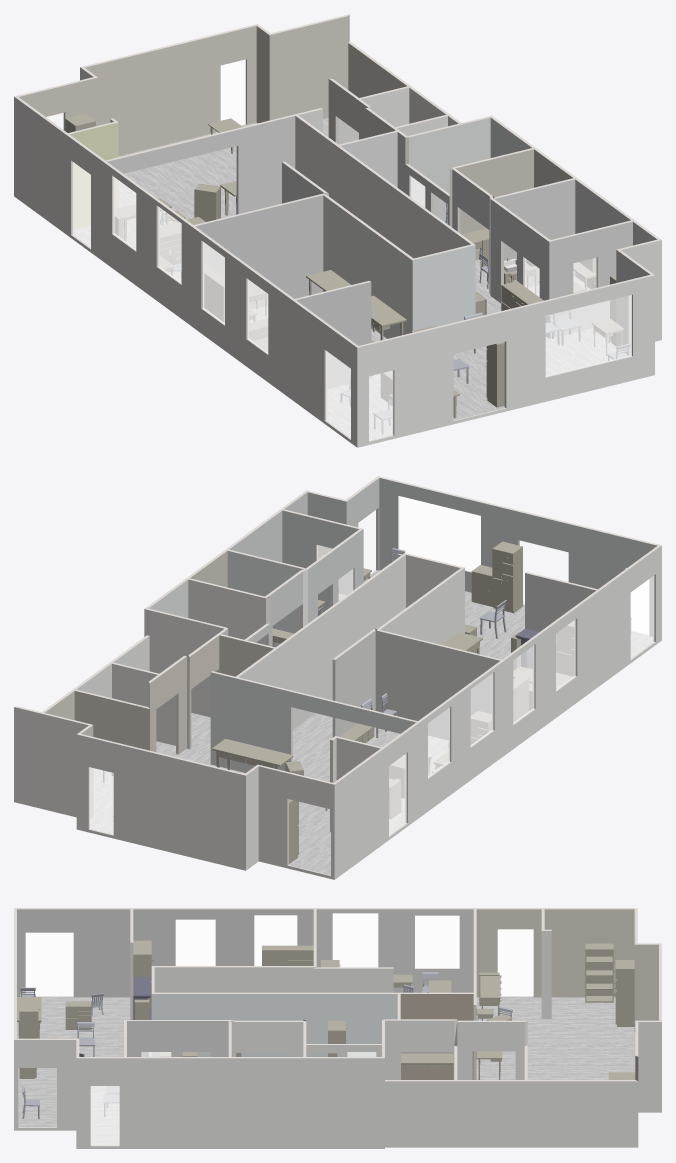
The model's file is Basement.glb.
The picture shows the model from 3 angles, top to bottom: view 1: azimuth 30°, elevation 25°; view 2: azimuth 150°, elevation 25°; view 3: azimuth 270°, elevation 25°; orthographic projection. The views are drawn at different scales.
Visible parts, largest first — view 1: wall_31, wall_83, wall_36, wall_41, wall_93, wall_29, wall_53, floor_Dining_Room_1, wall_43, wall_49, floor_Living_Room_1, window_6 (+56 smaller); view 2: wall_16, wall_113, wall_49, wall_123, wall_41, wall_21, wall_109, wall_43, wall_45, window_6, window_14, wall_42 (+55 smaller); view 3: floor_Living_Room_1, wall_39, wall_149, wall_13, wall_15, floor_Dining_Room_1, wall_147, wall_35, wall_137, wall_133, wall_141, wall_34 (+44 smaller).
Boxes of the visible parts, x1=… form: wall_31: x1=357, y1=275, x2=654, y2=447; wall_83: x1=85, y1=26, x2=256, y2=155; wall_36: x1=195, y1=195, x2=323, y2=308; wall_41: x1=191, y1=227, x2=292, y2=399; wall_93: x1=269, y1=16, x2=348, y2=120; wall_29: x1=107, y1=116, x2=295, y2=214; wall_53: x1=323, y1=195, x2=412, y2=338; floor_Dining_Room_1: x1=326, y1=328, x2=627, y2=440; wall_43: x1=103, y1=162, x2=191, y2=325; wall_49: x1=336, y1=146, x2=470, y2=258; floor_Living_Room_1: x1=73, y1=117, x2=328, y2=247; window_6: x1=546, y1=295, x2=631, y2=376; wall_16: x1=76, y1=734, x2=245, y2=870; wall_113: x1=379, y1=478, x2=657, y2=636; wall_49: x1=277, y1=555, x2=405, y2=729; wall_123: x1=377, y1=631, x2=499, y2=739; wall_41: x1=504, y1=591, x2=599, y2=755; wall_21: x1=14, y1=707, x2=88, y2=817; wall_109: x1=235, y1=678, x2=415, y2=772; wall_43: x1=420, y1=661, x2=503, y2=817; wall_45: x1=334, y1=749, x2=383, y2=879; window_6: x1=399, y1=496, x2=480, y2=571; window_14: x1=399, y1=496, x2=480, y2=571; wall_42: x1=258, y1=766, x2=334, y2=879; floor_Living_Room_1: x1=476, y1=996, x2=635, y2=1079; wall_39: x1=125, y1=1058, x2=229, y2=1148; wall_149: x1=151, y1=994, x2=397, y2=1056; wall_13: x1=526, y1=1081, x2=638, y2=1147; wall_15: x1=305, y1=1058, x2=384, y2=1148; floor_Dining_Room_1: x1=17, y1=996, x2=151, y2=1145; wall_147: x1=17, y1=909, x2=130, y2=997; wall_35: x1=230, y1=1058, x2=304, y2=1148; wall_137: x1=316, y1=909, x2=473, y2=992; wall_133: x1=133, y1=909, x2=313, y2=965; wall_141: x1=544, y1=909, x2=634, y2=997; wall_34: x1=455, y1=1081, x2=526, y2=1147.
Size of the model in its own units: 11.82 by 3.33 by 21.55.
Materials: 201 (12 with a texture image).
